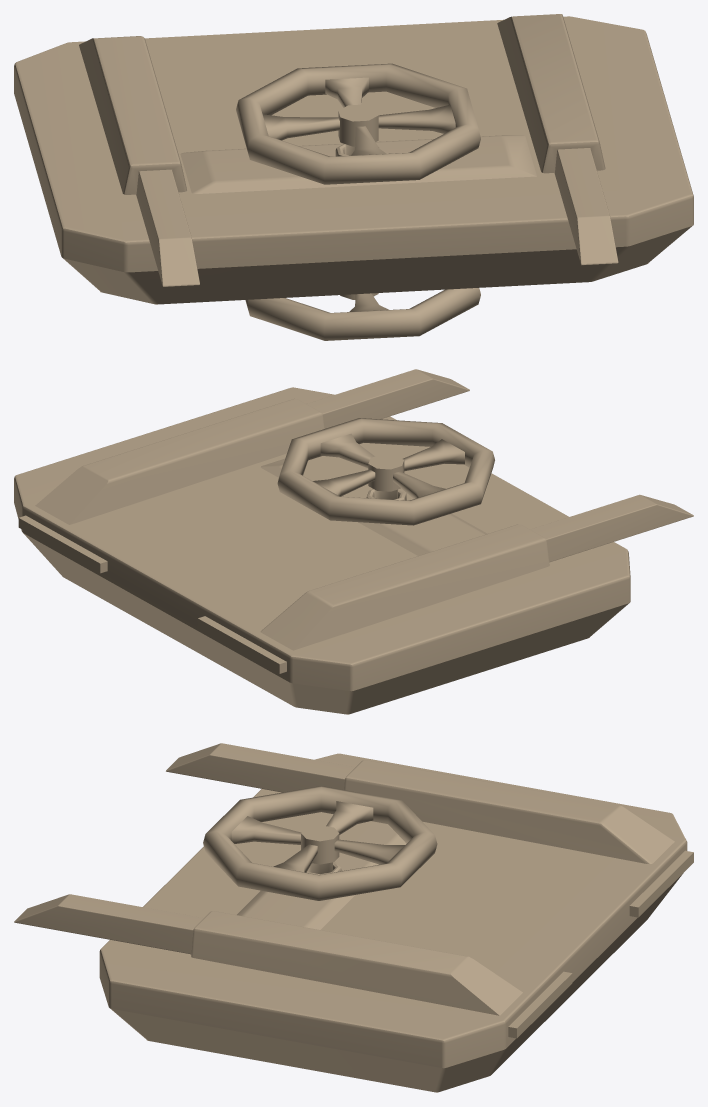
The model's file is door.fbx.
3 renders of one model, top to bottom at view 1: azimuth 30°, elevation 25°; view 2: azimuth 150°, elevation 25°; view 3: azimuth 270°, elevation 25°, orthographic. The views are drawn at different scales.
Visible parts, largest first — view 1: looker; view 2: looker; view 3: looker.
Part boxes in pixels (<box>): looker: <box>14,14,693,340</box>; looker: <box>14,369,693,714</box>; looker: <box>14,743,693,1092</box>.
Size of the model in its own units: 151 by 41.13 by 151.
